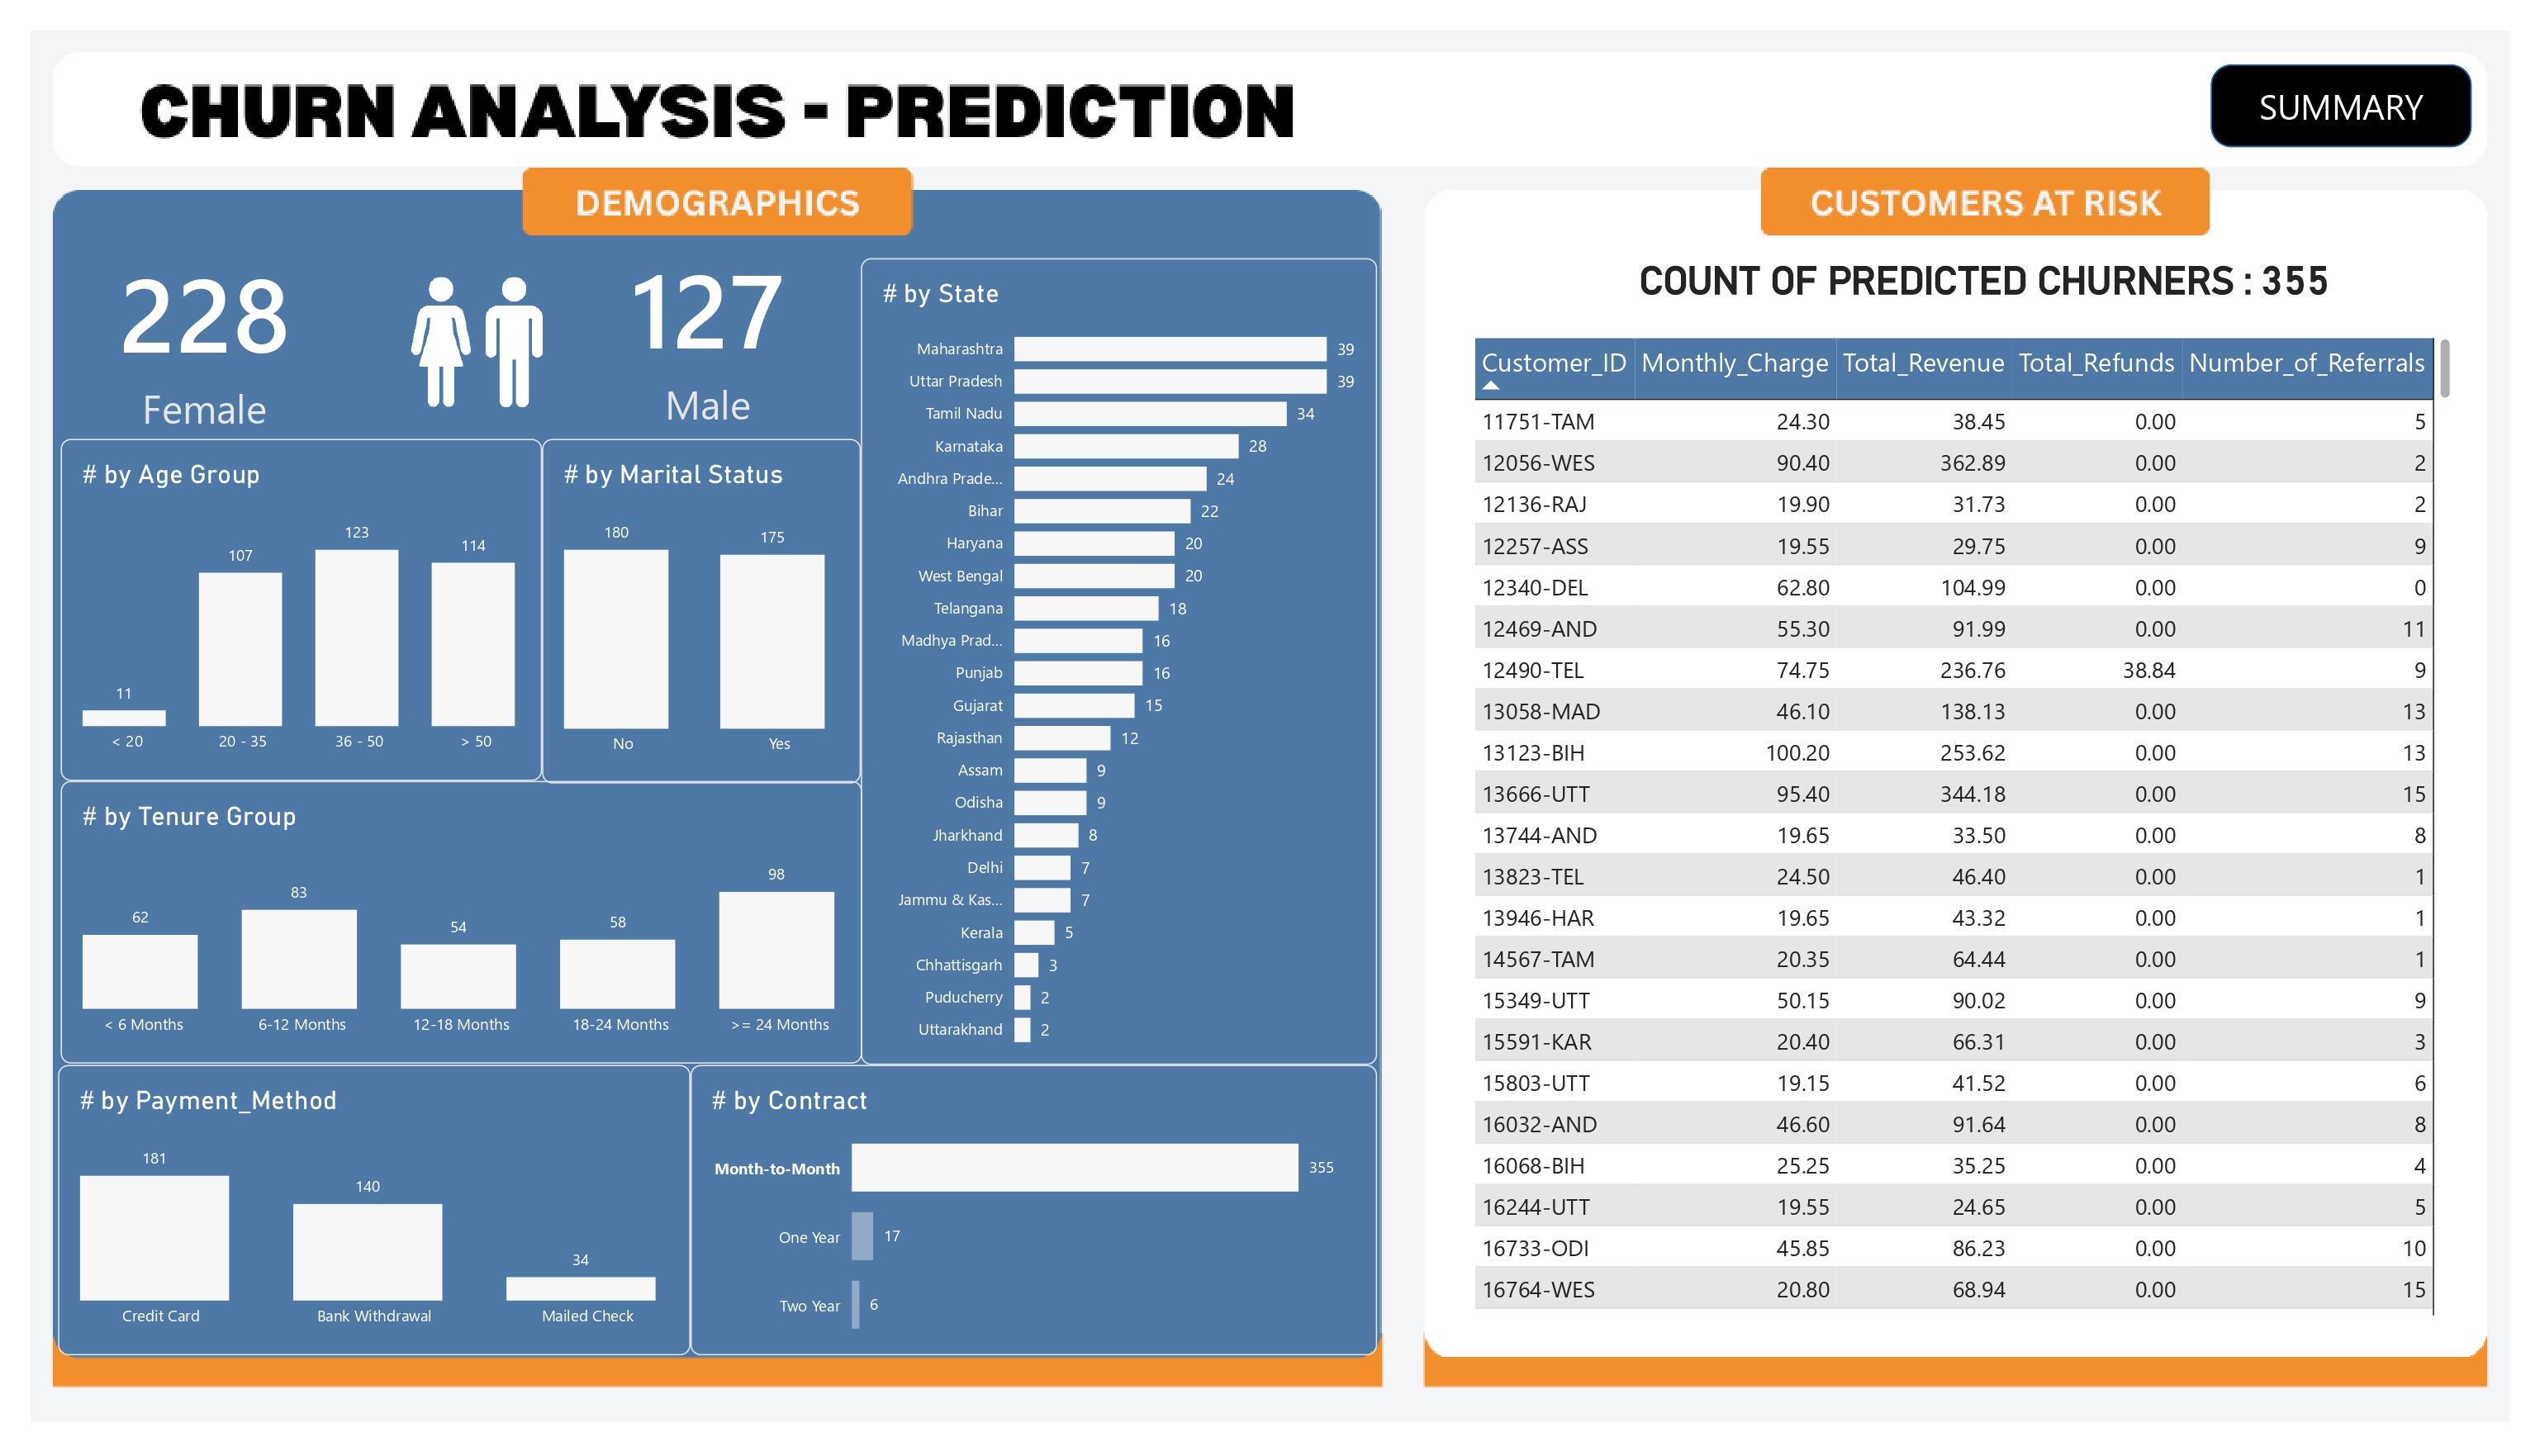

This screenshot's page, from the dashboard's own definition file:
{"tool":"powerbi","page":{"name":"Churn Prediction","canvas":[1920,1080],"ordinal":2},"visuals":[{"type":"tableEx","fields":{"Values":["Predictions.Customer_ID","Predictions.Monthly_Charge","Predictions.Total_Revenue","Predictions.Total_Refunds","Predictions.Number_of_Referrals"]},"box":[1101.6,223.6,789.9,787.5],"z":0},{"type":"cardVisual","fields":{"Data":["tbl_Measures.Title predicted Churner"]},"box":[1220,153.8,587.7,78.5],"z":1000},{"type":"cardVisual","fields":{"Data":["tbl_Measures.Count Predicted Churner"]},"box":[34.3,162.9,201.4,152.9],"z":2000},{"type":"cardVisual","fields":{"Data":["tbl_Measures.Count Predicted Churner"]},"box":[424.3,157.1,201.4,158.6],"z":3000},{"type":"clusteredColumnChart","fields":{"Category":["mapping_AgeGrp.Age Group"],"Y":["CountNonNull(Predictions.Customer_ID)"]},"box":[22.9,315.7,372.9,265.7],"z":4000},{"type":"clusteredColumnChart","fields":{"Category":["Predictions.Married"],"Y":["CountNonNull(Predictions.Customer_ID)"]},"box":[395.7,315.7,247.1,267.1],"z":5000},{"type":"clusteredColumnChart","fields":{"Category":["mapping_TenureGrp.Tenure Group"],"Y":["CountNonNull(Predictions.Customer_ID)"]},"box":[22.9,581.4,621,218.9],"z":6000},{"type":"clusteredColumnChart","fields":{"Category":["Predictions.Payment_Method"],"Y":["CountNonNull(Predictions.Customer_ID)"]},"box":[21.4,801.4,490,224.3],"z":7000},{"type":"clusteredBarChart","fields":{"Category":["Predictions.Contract"],"Y":["CountNonNull(Predictions.Customer_ID)"]},"box":[511.4,801.4,531.4,224.3],"z":8000},{"type":"clusteredBarChart","fields":{"Category":["Predictions.State"],"Y":["CountNonNull(Predictions.Customer_ID)"]},"box":[642.9,175.7,400,625.7],"z":9000},{"type":"image","box":[250,175.7,188.6,128.6],"z":9001},{"type":"shape","box":[1689.2,26.2,202.2,64.2],"z":9002}]}

Visuals, with their boxes on the page's 1920x1080 design canvas (x1, y1, x2, y2). These are canvas units, not pixel positions in the 2540x1456 screenshot, which may show the page scaled, cropped or inside an application window:
tableEx - Predictions.Customer_ID x Predictions.Monthly_Charge: box=[1102, 224, 1892, 1011]
cardVisual - tbl_Measures.Title predicted Churner: box=[1220, 154, 1808, 232]
cardVisual - tbl_Measures.Count Predicted Churner: box=[34, 163, 236, 316]
cardVisual - tbl_Measures.Count Predicted Churner: box=[424, 157, 626, 316]
clusteredColumnChart - mapping_AgeGrp.Age Group x CountNonNull(Predictions.Customer_ID): box=[23, 316, 396, 581]
clusteredColumnChart - Predictions.Married x CountNonNull(Predictions.Customer_ID): box=[396, 316, 643, 583]
clusteredColumnChart - mapping_TenureGrp.Tenure Group x CountNonNull(Predictions.Customer_ID): box=[23, 581, 644, 800]
clusteredColumnChart - Predictions.Payment_Method x CountNonNull(Predictions.Customer_ID): box=[21, 801, 511, 1026]
clusteredBarChart - Predictions.Contract x CountNonNull(Predictions.Customer_ID): box=[511, 801, 1043, 1026]
clusteredBarChart - Predictions.State x CountNonNull(Predictions.Customer_ID): box=[643, 176, 1043, 801]
image: box=[250, 176, 439, 304]
shape: box=[1689, 26, 1891, 90]
